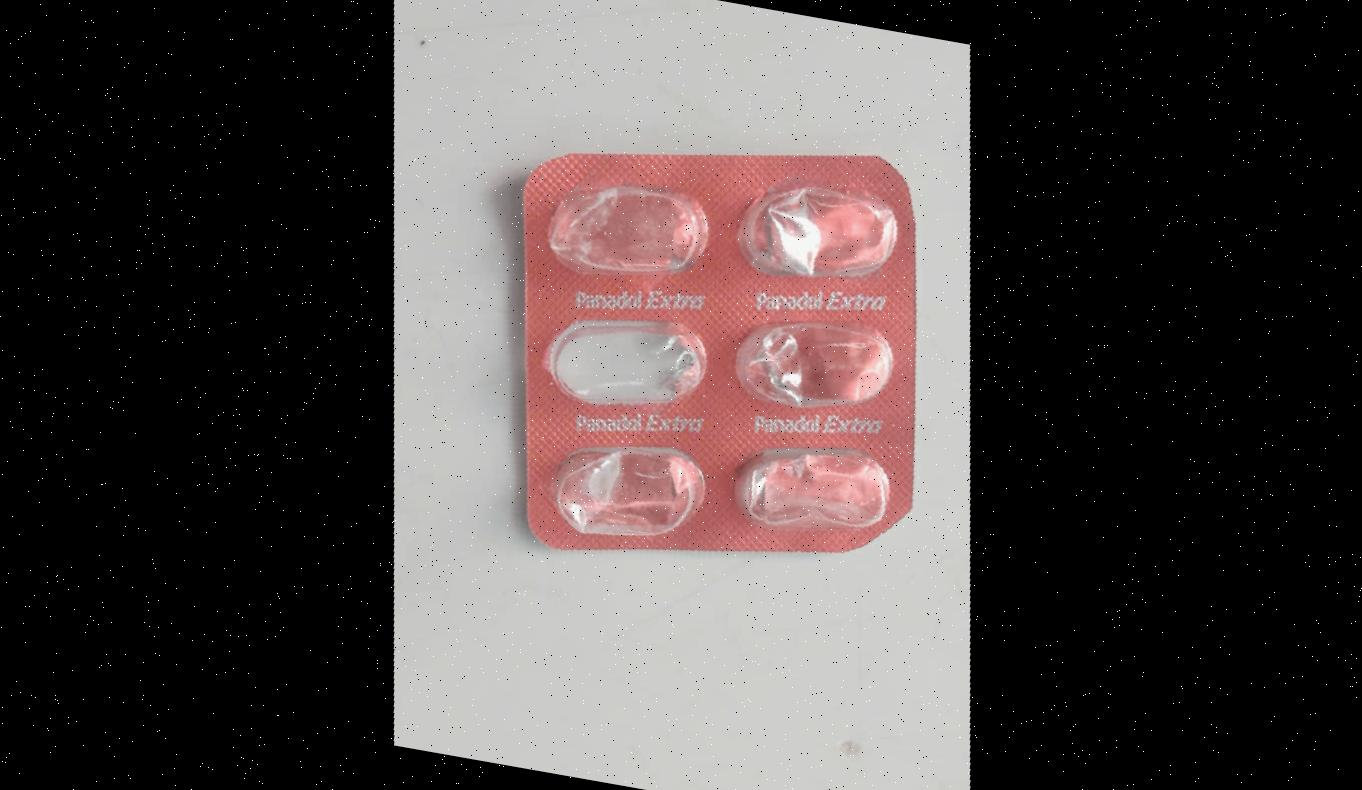Empty: (736, 179, 898, 284), (732, 435, 895, 539), (542, 180, 705, 284), (546, 439, 708, 543), (546, 310, 708, 414), (732, 313, 894, 417)
